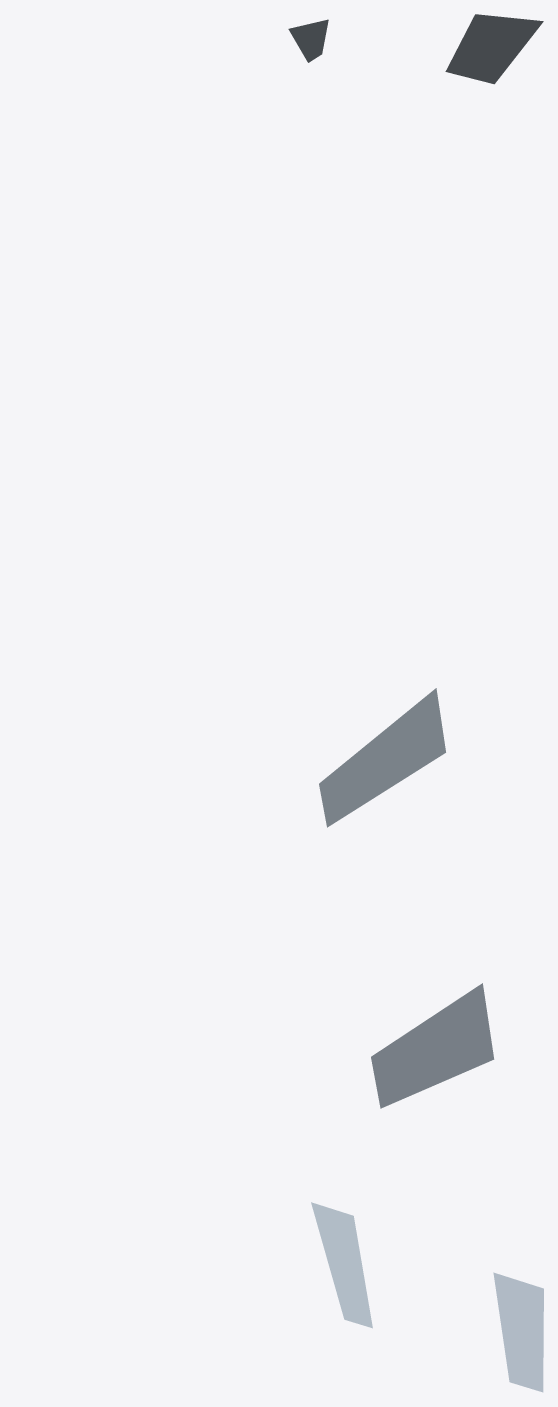
File: metatarsal-interosseous-ligaments-r.glb
3 renders of one model, top to bottom at view 1: azimuth 30°, elevation 25°; view 2: azimuth 150°, elevation 25°; view 3: azimuth 270°, elevation 25°, orthographic. The views are drawn at different scales.
Parts seen in each view (by area): view 1: Metatarsal interosseous ligaments.r; view 2: Metatarsal interosseous ligaments.r; view 3: Metatarsal interosseous ligaments.r.
Part boxes in pixels (<box>): Metatarsal interosseous ligaments.r: <box>288,14,543,84</box>; Metatarsal interosseous ligaments.r: <box>319,688,494,1108</box>; Metatarsal interosseous ligaments.r: <box>311,1202,543,1392</box>.
Bounding box in the file's own units: 0.0297 × 0.0192 × 0.0242.
